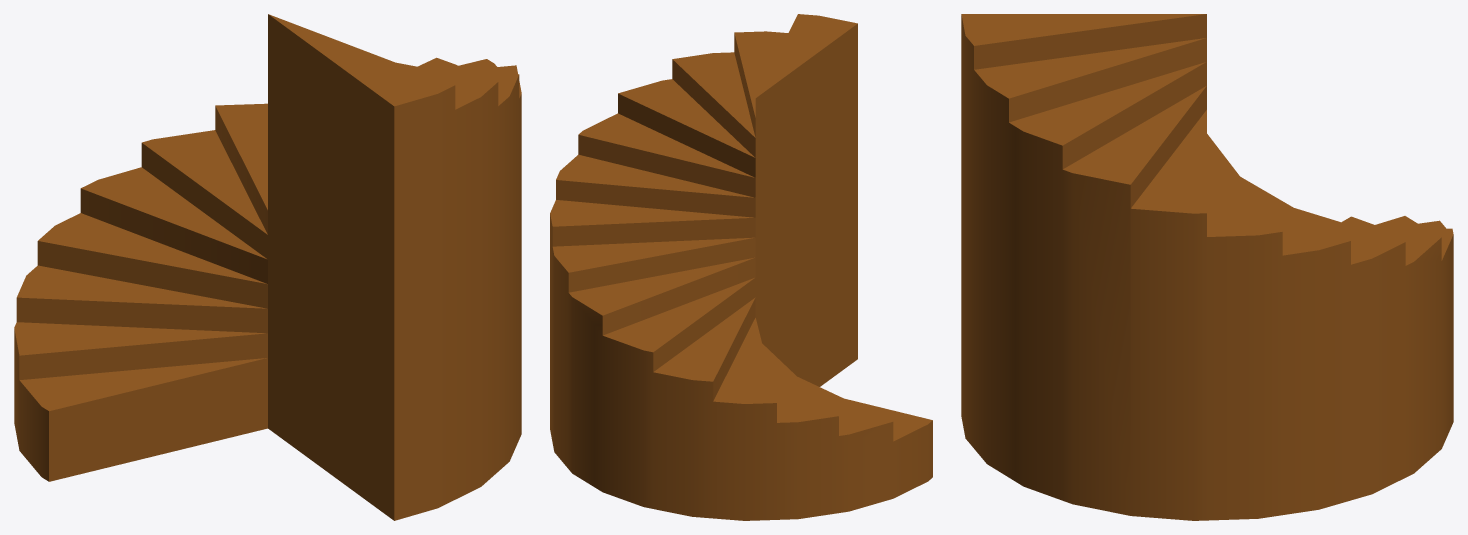
The model's file is Dungeon_Tile_Stairs_Spiral_Full_Wooden_01.fbx.
3 renders of one model, left to right at view 1: azimuth 30°, elevation 25°; view 2: azimuth 150°, elevation 25°; view 3: azimuth 270°, elevation 25°, orthographic. The views are drawn at different scales.
Visible parts, largest first — view 1: Dungeon_Tile_Stairs_Spiral_Full_Wooden_01; view 2: Dungeon_Tile_Stairs_Spiral_Full_Wooden_01; view 3: Dungeon_Tile_Stairs_Spiral_Full_Wooden_01.
Part boxes in pixels (x1,y1,x2,y2): Dungeon_Tile_Stairs_Spiral_Full_Wooden_01: (14,14,521,520); Dungeon_Tile_Stairs_Spiral_Full_Wooden_01: (550,14,932,520); Dungeon_Tile_Stairs_Spiral_Full_Wooden_01: (961,14,1453,520).
Bounding box in the file's own units: 81.91 × 73.82 × 81.74.
